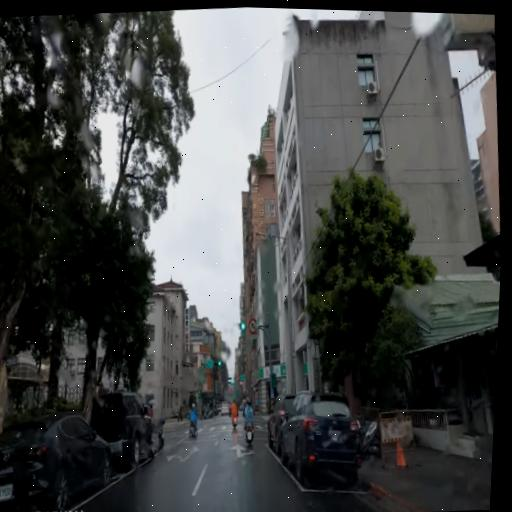Car: (0, 402, 118, 512), (275, 384, 365, 487), (79, 387, 157, 476), (263, 387, 316, 457), (219, 400, 230, 417)
